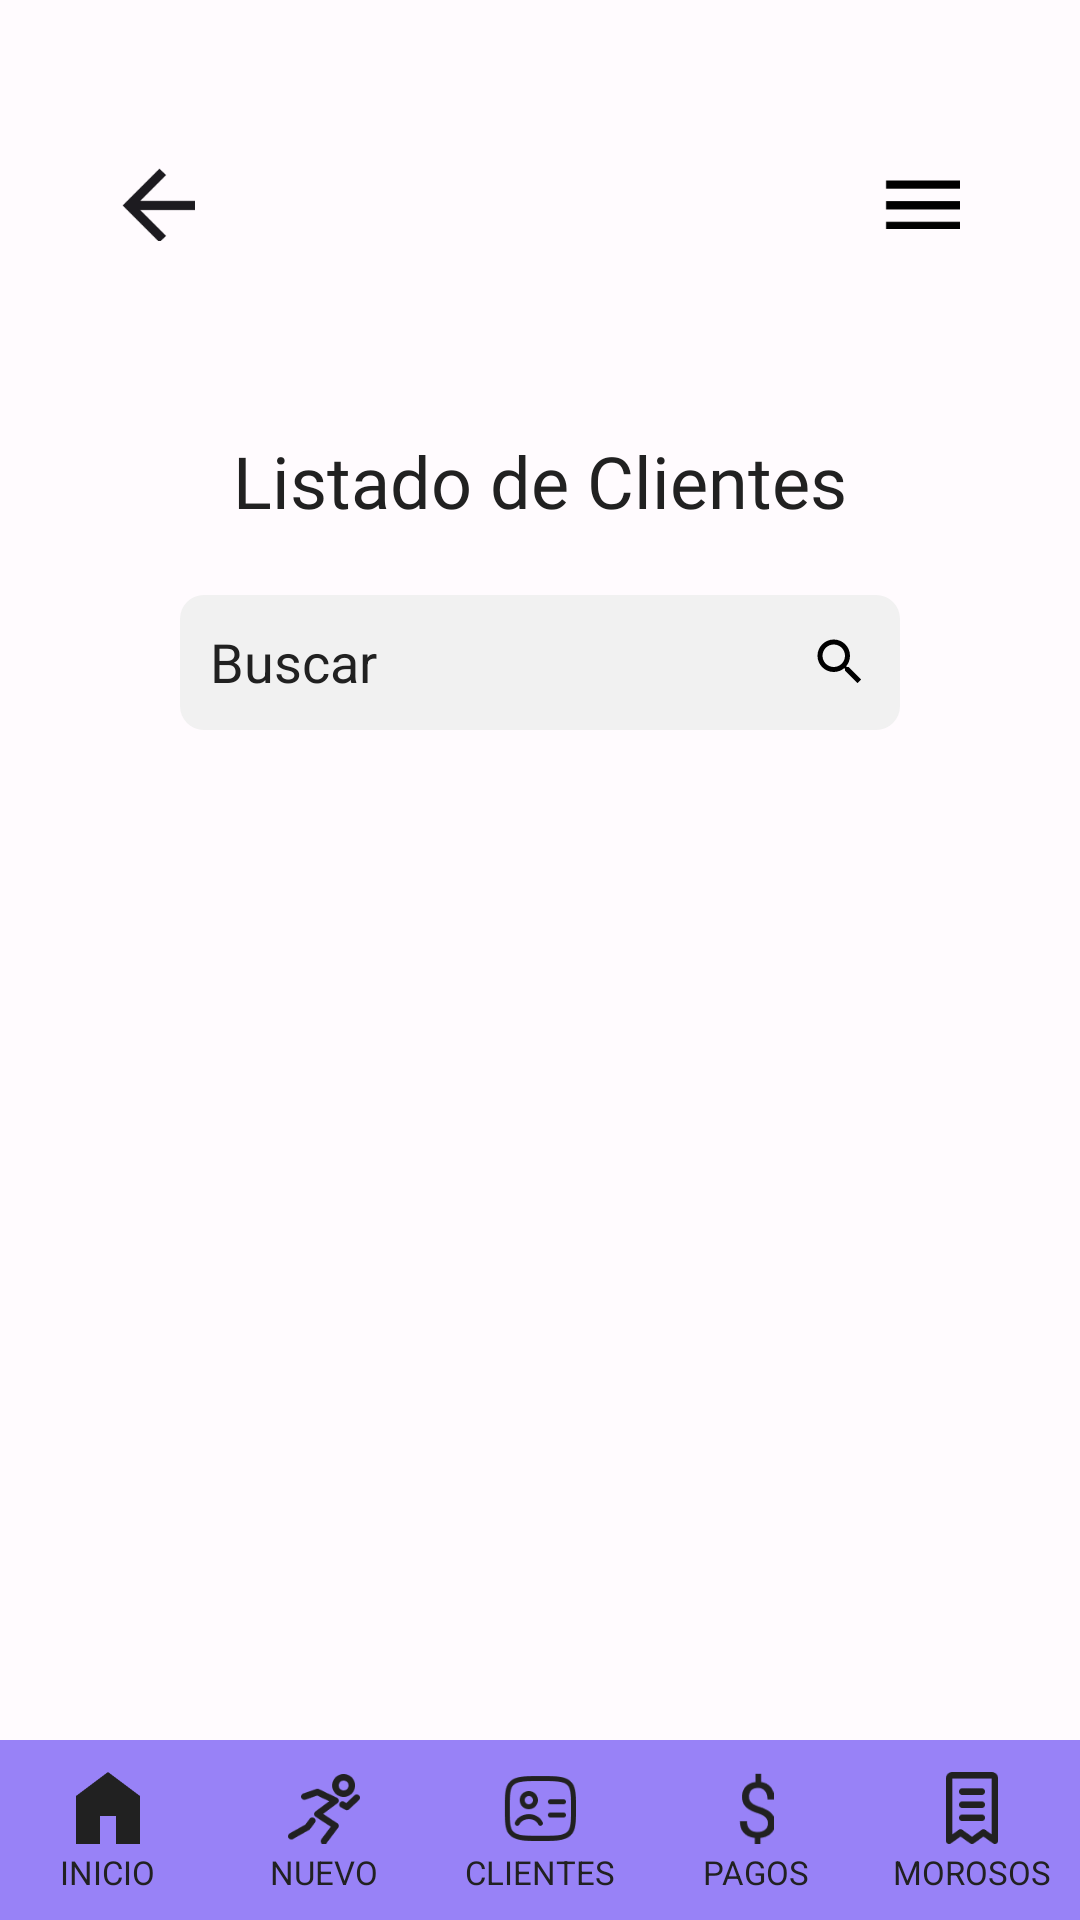

Named icons in this screenshot (1080×1920) and their bounding boxes, BBox(x1, y1, x2, y2):
Menú: BBox(885, 180, 960, 229)
Volver: BBox(122, 168, 195, 241)
